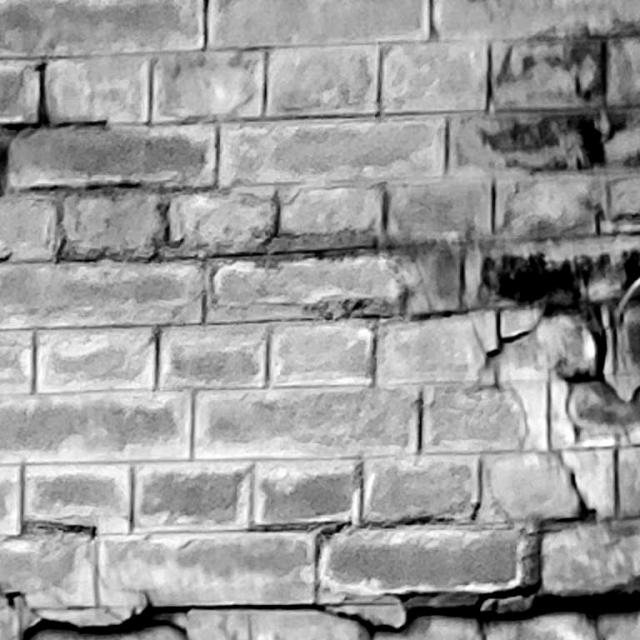crack: (1, 581, 637, 640), (485, 306, 608, 383)
